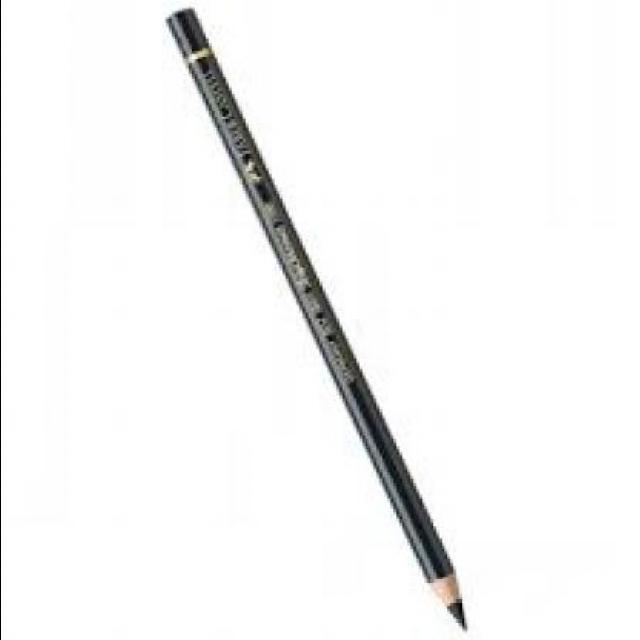Pencil: (407, 546, 481, 640)
